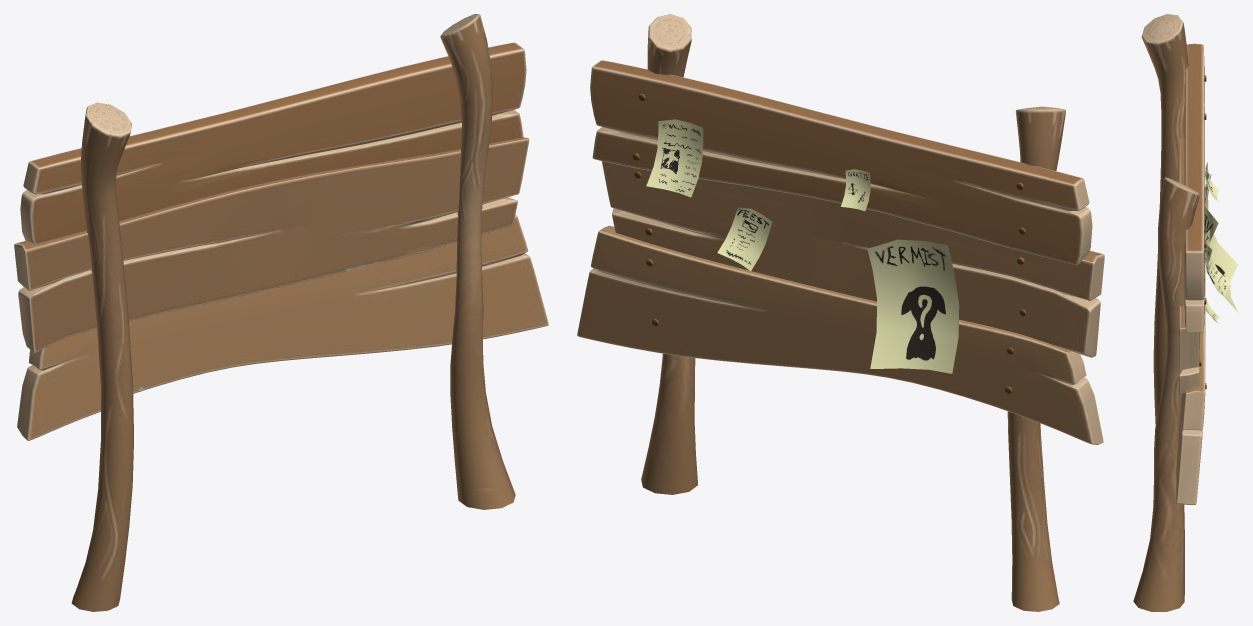
The model's file is board.glb.
The picture shows the model from 3 angles, left to right: view 1: azimuth 30°, elevation 25°; view 2: azimuth 150°, elevation 25°; view 3: azimuth 270°, elevation 25°; orthographic projection. The views are drawn at different scales.
Visible parts, largest first — view 1: Planks, Poles; view 2: Planks, Poles, pPlane2, pPlane1, pPlane3, pPlane4; view 3: Poles, Planks, pPlane2, pPlane1, pPlane4.
Boxes of the visible parts, bbox=[...] form: Planks: bbox=[14, 42, 548, 440]; Poles: bbox=[71, 14, 515, 611]; Planks: bbox=[577, 60, 1104, 444]; Poles: bbox=[641, 14, 1065, 611]; pPlane2: bbox=[867, 239, 959, 373]; pPlane1: bbox=[646, 119, 703, 197]; pPlane3: bbox=[717, 207, 772, 270]; pPlane4: bbox=[841, 169, 870, 210]; Poles: bbox=[1133, 14, 1199, 611]; Planks: bbox=[1176, 43, 1205, 505]; pPlane2: bbox=[1204, 174, 1238, 312]; pPlane1: bbox=[1204, 229, 1230, 301]; pPlane4: bbox=[1205, 162, 1219, 201].
Size of the model in its own units: 2.95 by 2.67 by 0.5841.
3 materials, 3 textured.
